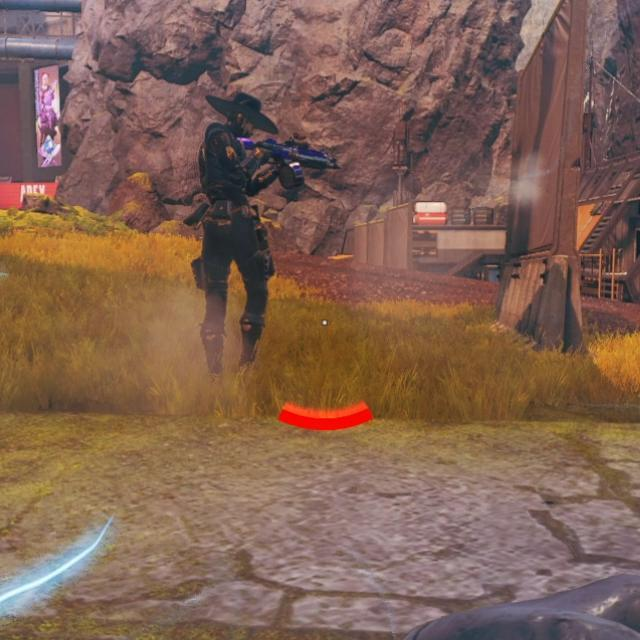avatar: (194, 90, 279, 373)
